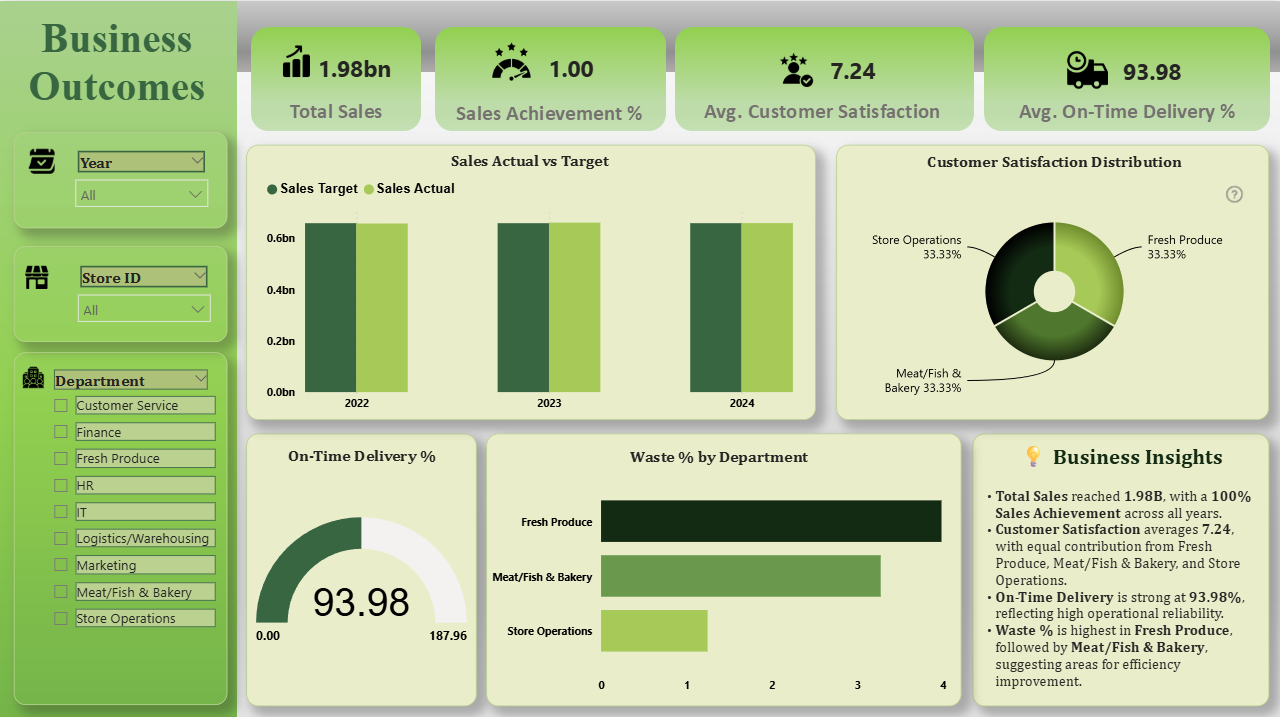

Layout of this report page (visuals, bound fields, positions):
{"tool":"powerbi","page":{"name":"Business Outcomes","canvas":[1280,720],"ordinal":2},"visuals":[{"type":"shape","box":[972.4,433.1,296.8,272.7],"z":0},{"type":"shape","box":[836.1,143.6,433.1,275.1],"z":1000},{"type":"shape","box":[246.1,433.1,230.4,272.7],"z":2000},{"type":"shape","box":[246.1,143.6,569.4,275.1],"z":3000},{"type":"shape","box":[486.2,433.1,475.3,272.7],"z":4000},{"type":"card","fields":{"Values":["employees.Total Sales"]},"box":[308.8,47.1,91.7,43.4],"z":5000},{"type":"card","fields":{"Values":["employees.Sales Achievement %"]},"box":[536.9,50.7,70,35],"z":6000},{"type":"card","fields":{"Values":["Data_Dictionary.Avg Satisfaction"]},"box":[815.6,56.7,76,30.2],"z":7000},{"type":"card","fields":{"Values":["employees.Avg On-Time Delivery %"]},"box":[1116,54.3,72.4,36.2],"z":8000},{"type":"clusteredColumnChart","title":"Sales Actual vs Target","fields":{"Category":["business_outcomes.Year_Month.Variation.Date Hierarchy.Year","business_outcomes.Year_Month.Variation.Date Hierarchy.Quarter","business_outcomes.Year_Month.Variation.Date Hierarchy.Month","business_outcomes.Year_Month.Variation.Date Hierarchy.Day"],"Y":["Sum(business_outcomes.Sales_Target)","Sum(business_outcomes.Sales_Actual)"]},"box":[261.8,149.6,536.9,269],"z":9000},{"type":"ZoomChartsPieChartPaidE77E4ED357DC402ABA005987437CF500","title":"Customer Satisfaction Distribution","fields":{"Category":["business_outcomes.Department"],"Values":["Data_Dictionary.Avg Satisfaction"]},"box":[853,150.8,404.2,260.6],"z":10000},{"type":"gauge","title":"On-Time Delivery %","fields":{"Y":["employees.Avg On-Time Delivery %"]},"box":[250.9,445.2,220.8,255.8],"z":11000},{"type":"barChart","title":"Waste % by Department","fields":{"Y":["employees.Avg Waste %"],"Category":["business_outcomes.Department"]},"box":[486.2,446.4,465.7,255.8],"z":12000},{"type":"textbox","box":[972.4,435.5,296.8,270.2],"z":13000},{"type":"textbox","title":"Business Outcomes","box":[10.1,13.9,213.8,93.6],"z":14000},{"type":"slicer","fields":{"Values":["business_outcomes.Year_Month"]},"box":[64.5,145.5,153.1,72.1],"z":15000},{"type":"slicer","fields":{"Values":["employees.Department"]},"box":[41.7,364.3,179.6,303.6],"z":16000},{"type":"slicer","fields":{"Values":["stores.Store_Id"]},"box":[67,260.6,153.1,64.5],"z":17000},{"type":"shape","box":[13.9,131.6,213.8,96.1],"z":18000},{"type":"shape","box":[13.9,245.4,213.8,96.1],"z":19000},{"type":"shape","box":[13.9,351.7,213.8,353],"z":20000},{"type":"image","box":[17.7,139.2,46.8,41.7],"z":20001},{"type":"image","box":[10.1,260.6,53.1,32.9],"z":20002},{"type":"image","box":[13.9,360.5,39.2,32.9],"z":20003},{"type":"image","box":[486.2,33.8,50.7,53.1],"z":20004},{"type":"image","box":[764.9,45.8,62.7,45.8],"z":20005},{"type":"image","box":[271.4,37.4,50.7,45.8],"z":20006},{"type":"image","box":[1060.5,43.4,55.5,50.7],"z":20007}]}

Visuals, with their boxes in screenshot pixels (x1, y1, x2, y2), scaled from the page's 1280x720 canvas onto the 1280x717 screenshot:
shape: crop(972, 431, 1269, 703)
shape: crop(836, 143, 1269, 417)
shape: crop(246, 431, 476, 703)
shape: crop(246, 143, 816, 417)
shape: crop(486, 431, 962, 703)
card - employees.Total Sales: crop(309, 47, 400, 90)
card - employees.Sales Achievement %: crop(537, 50, 607, 85)
card - Data_Dictionary.Avg Satisfaction: crop(816, 56, 892, 87)
card - employees.Avg On-Time Delivery %: crop(1116, 54, 1188, 90)
"Sales Actual vs Target" clusteredColumnChart: crop(262, 149, 799, 417)
"Customer Satisfaction Distribution" ZoomChartsPieChartPaidE77E4ED357DC402ABA005987437CF500: crop(853, 150, 1257, 410)
"On-Time Delivery %" gauge: crop(251, 443, 472, 698)
"Waste % by Department" barChart: crop(486, 445, 952, 699)
textbox: crop(972, 434, 1269, 703)
"Business Outcomes" textbox: crop(10, 14, 224, 107)
slicer - business_outcomes.Year_Month: crop(64, 145, 218, 217)
slicer - employees.Department: crop(42, 363, 221, 665)
slicer - stores.Store_Id: crop(67, 260, 220, 324)
shape: crop(14, 131, 228, 227)
shape: crop(14, 244, 228, 340)
shape: crop(14, 350, 228, 702)
image: crop(18, 139, 64, 180)
image: crop(10, 260, 63, 292)
image: crop(14, 359, 53, 392)
image: crop(486, 34, 537, 87)
image: crop(765, 46, 828, 91)
image: crop(271, 37, 322, 83)
image: crop(1060, 43, 1116, 94)
